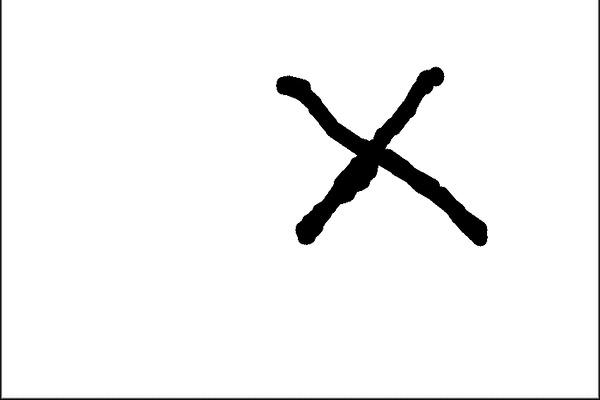X: (252, 61, 518, 258)
